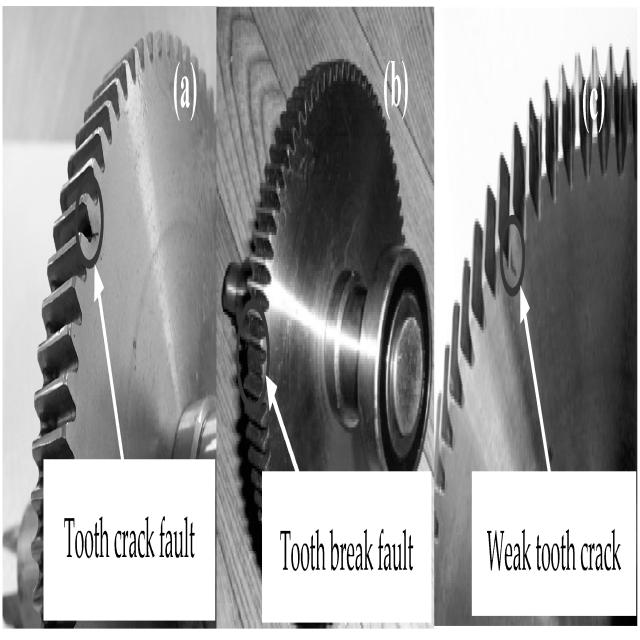Fault-Exist: (228, 247, 286, 457), (487, 197, 552, 321), (72, 166, 110, 312)
